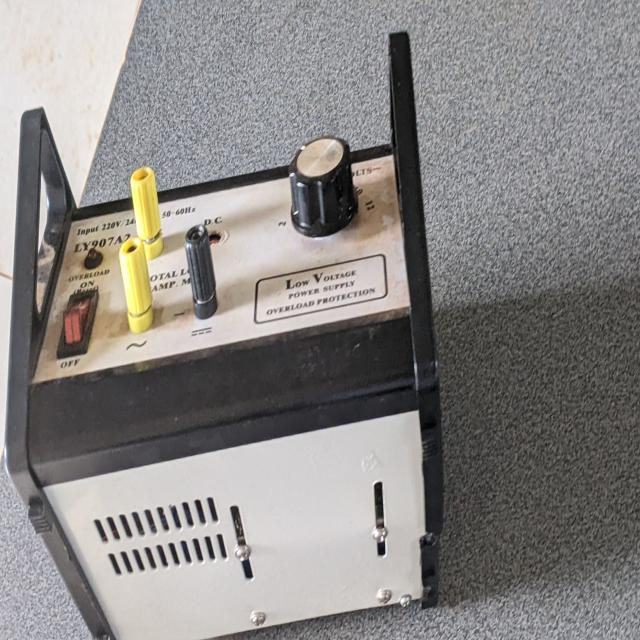AC-AD Regulated Power Supply: (13, 92, 441, 629)
